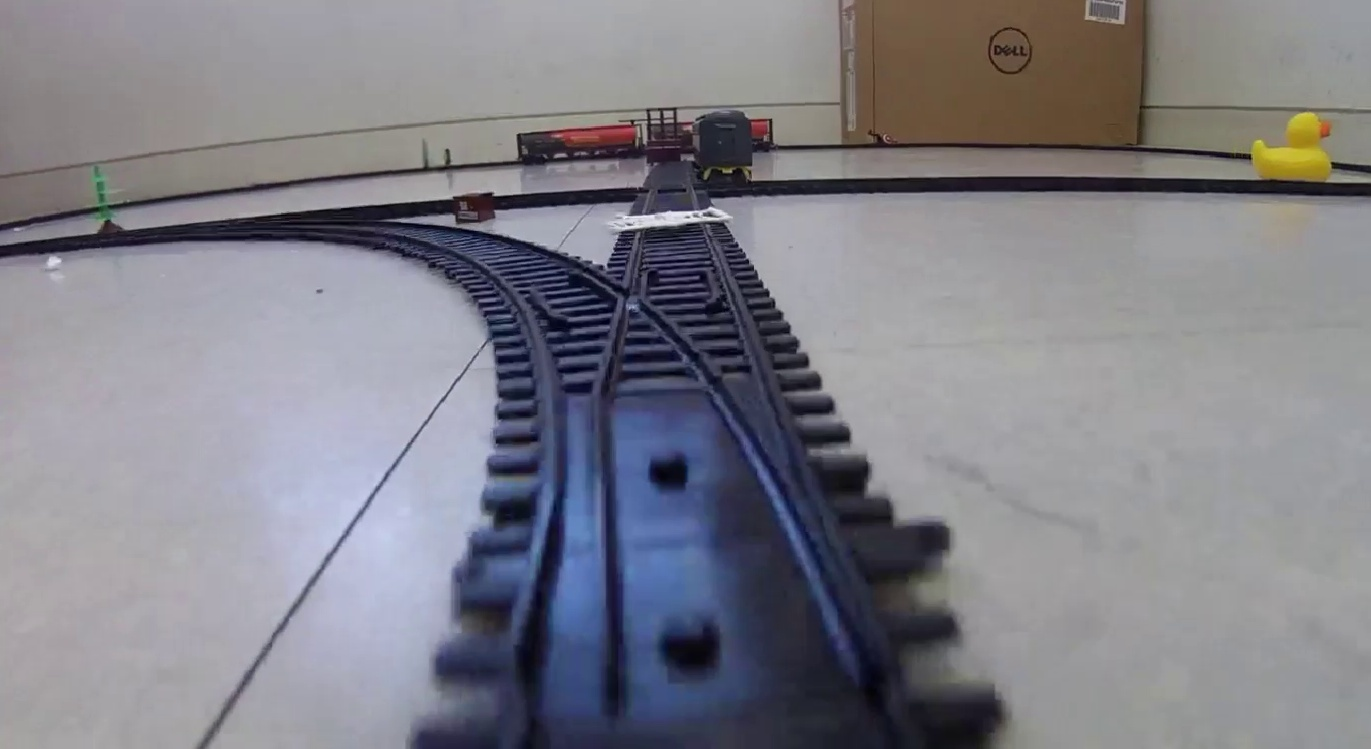box: (451, 193, 497, 223)
web: (606, 206, 736, 230)
